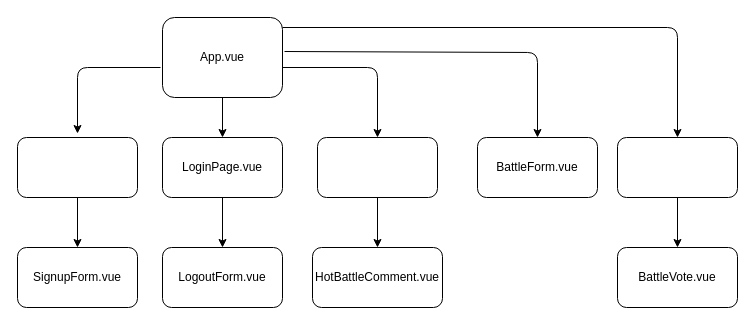
Some shapes in this 755 by 325 pixel diagram are drawn without their labels. Each missing label, with the centre of its shape:
"BattleList.vue" belongs at [677,167].
"HotBattle.vue" belongs at [377,167].
"SignupPage.vue" belongs at [77,167].
